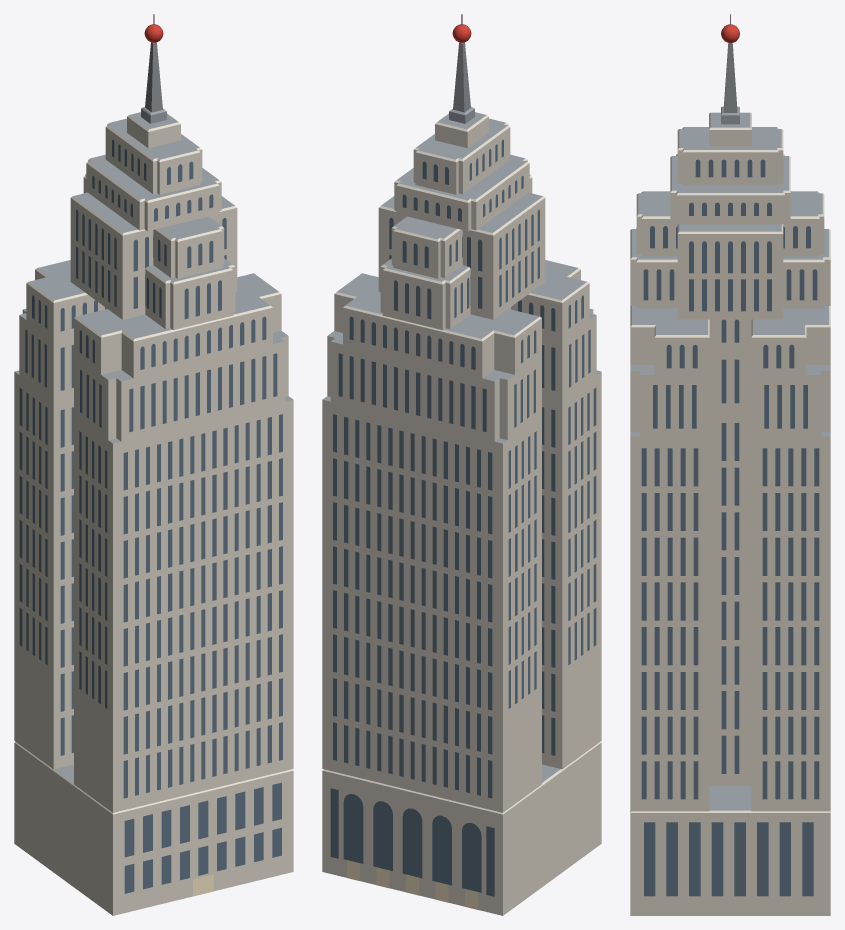
Rendered from det-penobscot-building.glb.
3 views of the same model, side by side, from view 1: azimuth 30°, elevation 25°; view 2: azimuth 150°, elevation 25°; view 3: azimuth 270°, elevation 25° (orthographic).
Visible parts, largest first — view 1: Penobscot Building; view 2: Penobscot Building; view 3: Penobscot Building.
Boxes of the visible parts, x1=… form: Penobscot Building: x1=14, y1=14, x2=293, y2=915; Penobscot Building: x1=322, y1=14, x2=601, y2=915; Penobscot Building: x1=630, y1=14, x2=830, y2=915.
Size of the model in its own units: 44.1 by 196 by 41.72.
